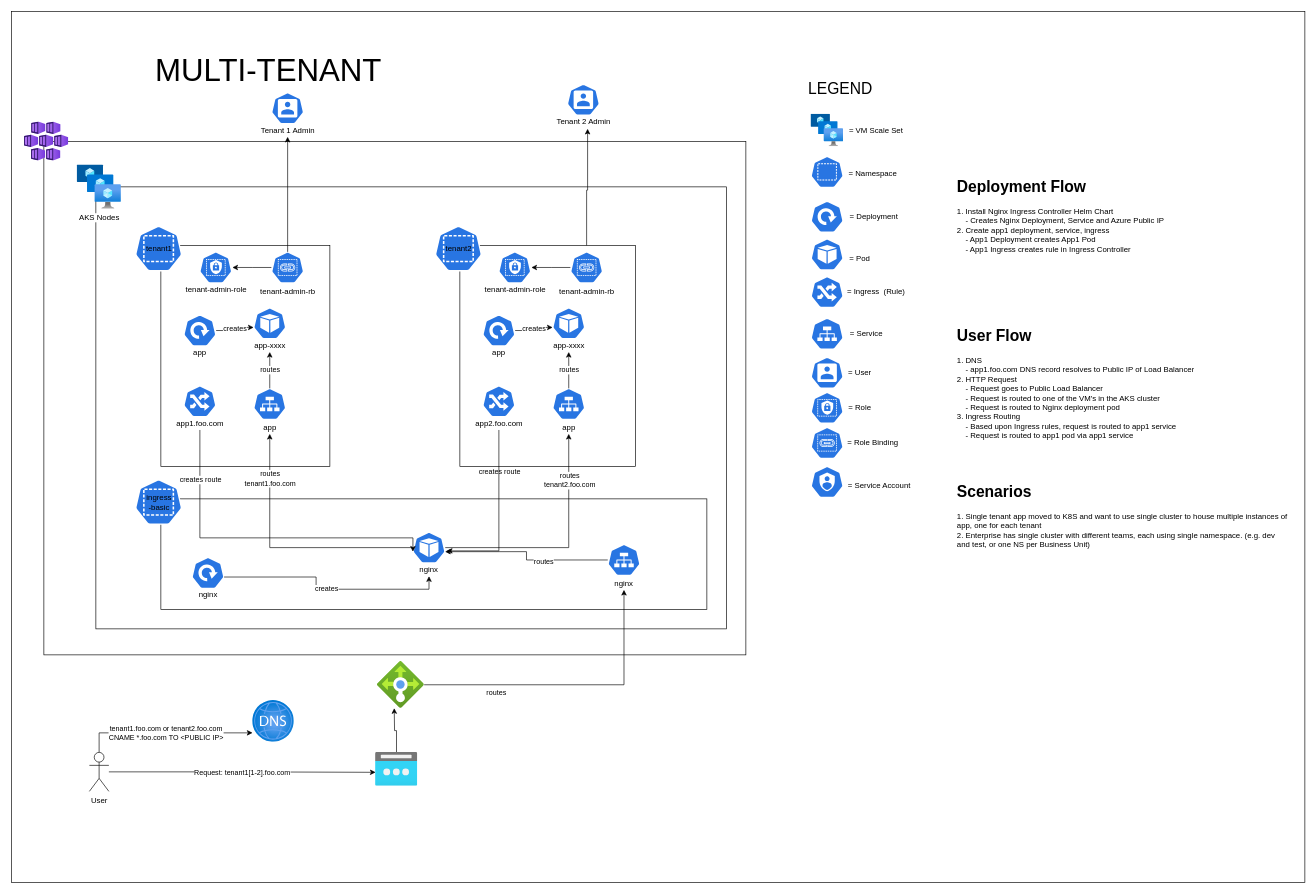
The diagram is 1316 pixels wide and 894 high, and some of its shapes have lost their labels. Each missing label, with the centre of its shape:
AKS Cluster: [46,141]
Public IP: [396,769]
Public Load Balancer: [400,684]
